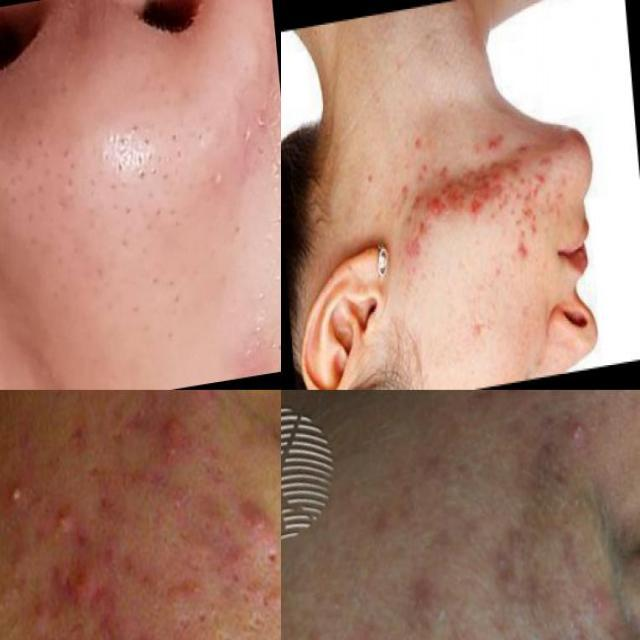Pimples: (441, 158, 502, 226), (112, 115, 164, 194), (230, 488, 281, 560), (150, 404, 202, 466), (0, 461, 44, 523), (146, 128, 192, 185), (104, 192, 141, 256), (67, 544, 104, 606), (38, 143, 82, 195), (516, 175, 556, 228), (199, 158, 241, 199), (139, 200, 182, 239), (46, 499, 82, 544), (558, 410, 595, 453), (415, 182, 447, 228), (168, 390, 222, 410), (510, 231, 538, 267), (590, 390, 632, 409), (27, 626, 80, 640), (579, 627, 617, 640)
